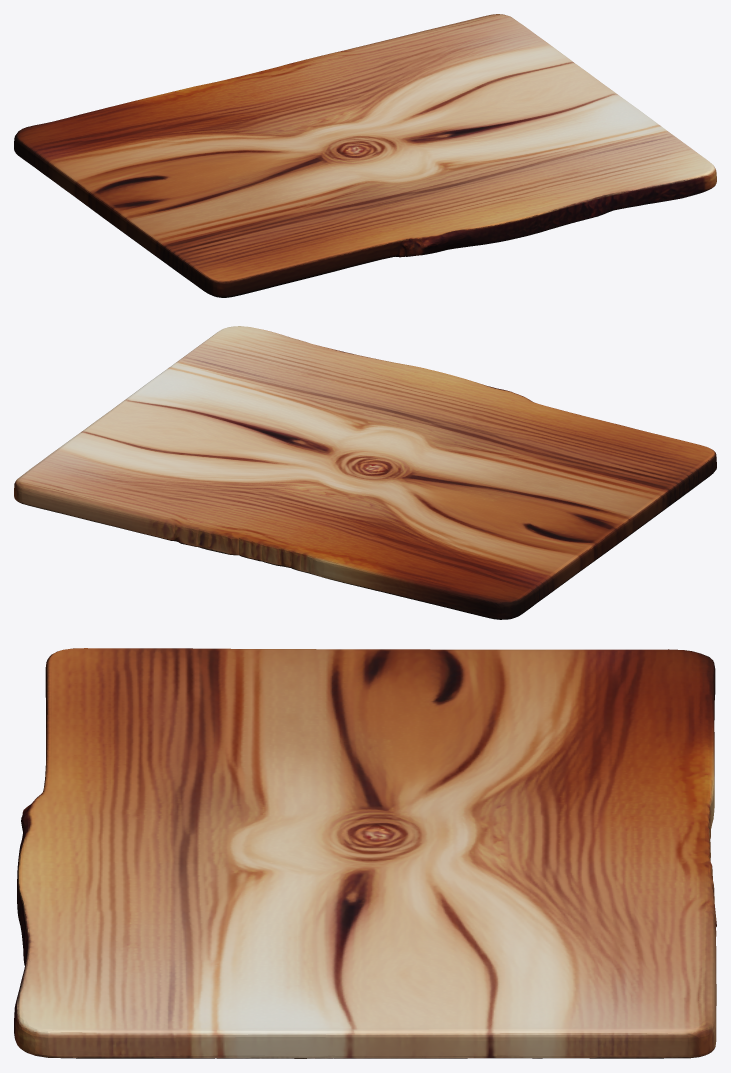
Rendered from wooden-bath-mat-rustic.jpeg.glb.
3 views of the same model, one above another, from view 1: azimuth 30°, elevation 25°; view 2: azimuth 150°, elevation 25°; view 3: azimuth 270°, elevation 25° (orthographic). The views are drawn at different scales.
Visible parts, largest first — view 1: world; view 2: world; view 3: world.
Boxes of the visible parts, x1,y1,x2,y2 form: world: (14, 14, 716, 297); world: (14, 326, 716, 619); world: (14, 648, 716, 1058).
Size of the model in its own units: 1 by 0.0379 by 0.77.
1 material, 1 textured.
